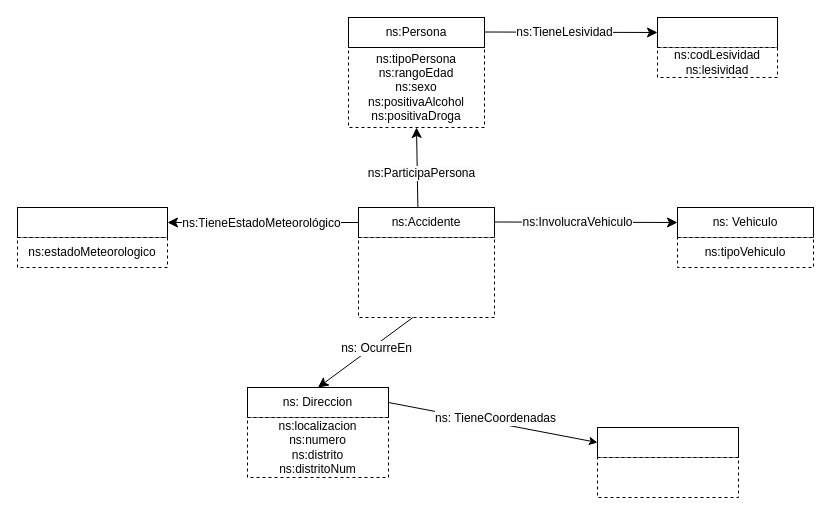
Some shapes in this 831 by 515 pixel diagram are drawn without their labels. Each missing label, with the box of its shape:
ns: Coordenadas: (596, 426, 738, 458)
ns:coordenadaX ns:coordenadaY: (596, 456, 738, 498)
ns:Estado Meteorológico: (16, 206, 168, 238)
ns:Lesividad: (656, 16, 778, 48)
ns:numExpediente ns:fecha ns:hora ns:tipoAccidente: (358, 236, 494, 318)
